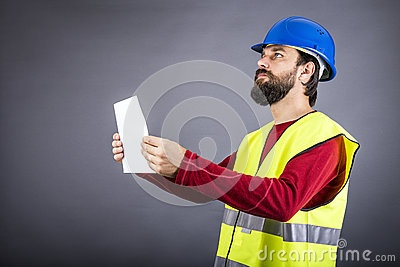blue: (247, 12, 339, 107)
